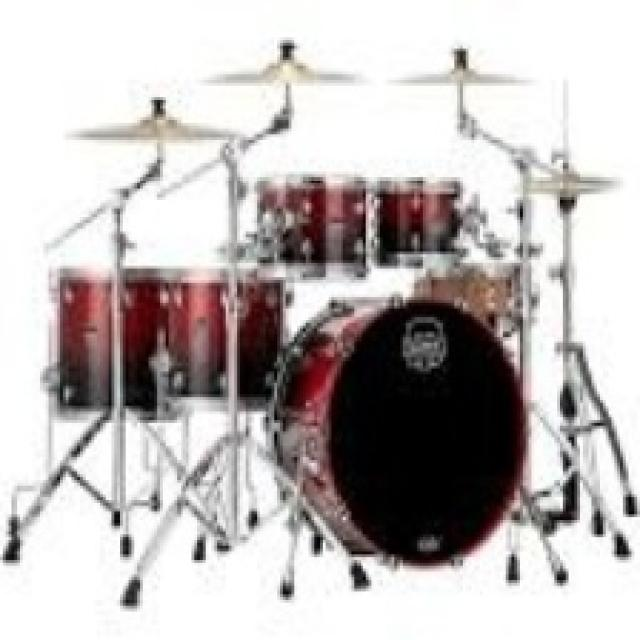drums: (9, 36, 638, 617)
